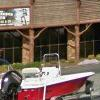Boat: (16, 53, 100, 100)
